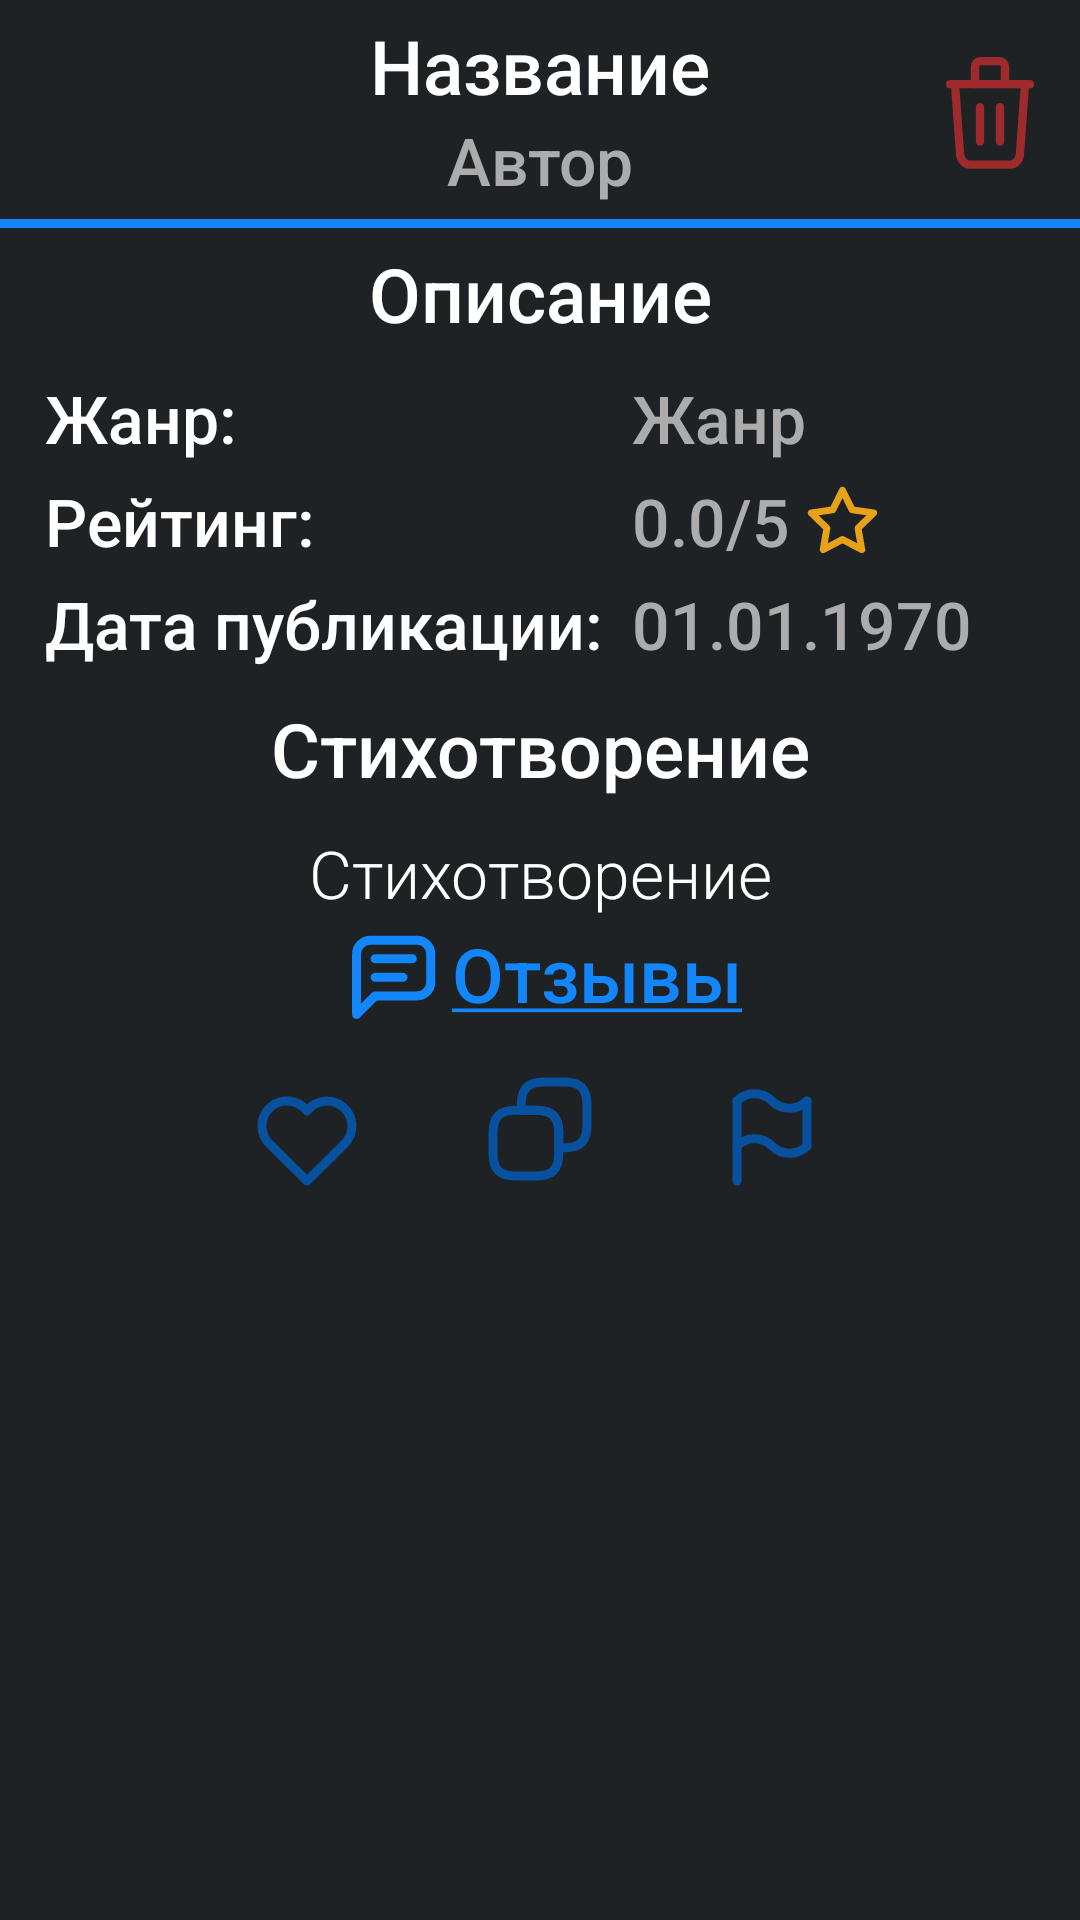

Icon click points for this 1080px x 1920px phone screenshot, format (x=x, y=y):
complaint: (x=772, y=1137)
delete: (x=989, y=113)
like: (x=307, y=1141)
reviews: (x=394, y=977)
star: (x=842, y=520)
